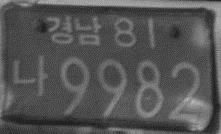1: (146, 17, 157, 50)
2: (167, 61, 202, 122)
8: (133, 58, 164, 120), (111, 15, 136, 49)
9: (57, 55, 91, 117), (96, 58, 128, 118)
경남_O: (44, 15, 102, 47)
나: (11, 53, 48, 98)
